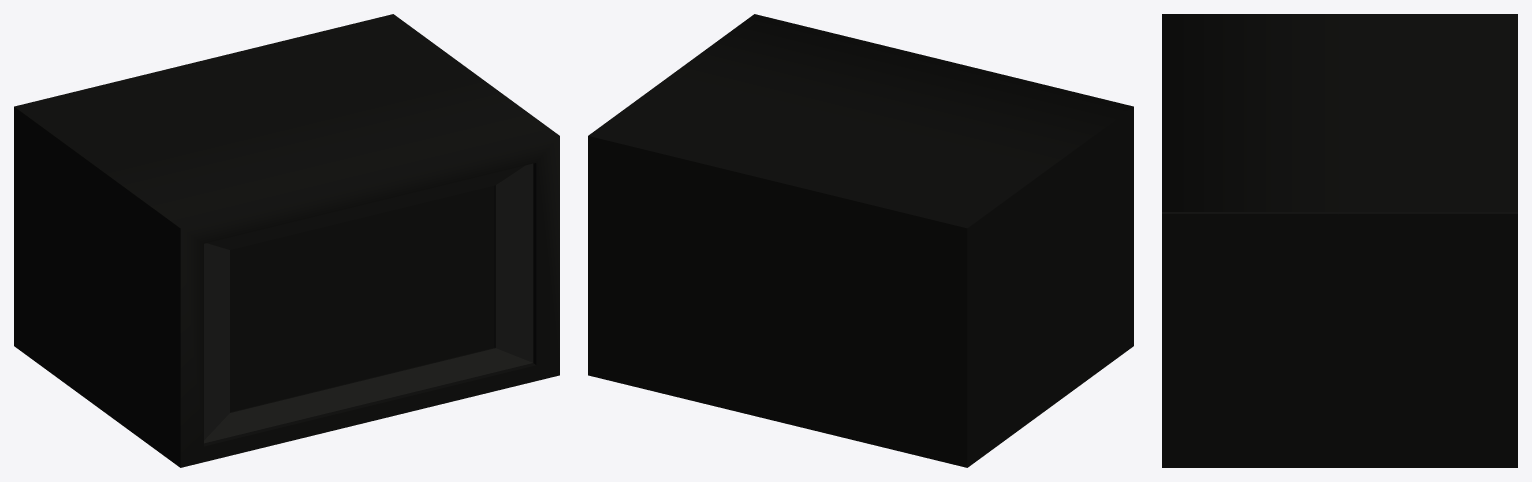
Rendered from Safe.fbx.
3 views of the same model, side by side, from view 1: azimuth 30°, elevation 25°; view 2: azimuth 150°, elevation 25°; view 3: azimuth 270°, elevation 25° (orthographic). The views are drawn at different scales.
Visible parts, largest first — view 1: Safe_Shape, Safe_Opening_Door; view 2: Safe_Shape; view 3: Safe_Shape.
Part boxes in pixels (left/top/right/bottom): Safe_Shape: left=14, top=14, right=559, bottom=467; Safe_Opening_Door: left=230, top=185, right=494, bottom=412; Safe_Shape: left=588, top=14, right=1133, bottom=467; Safe_Shape: left=1162, top=14, right=1517, bottom=467.
Bounding box in the file's own units: 59.78 × 36.3 × 45.43.
